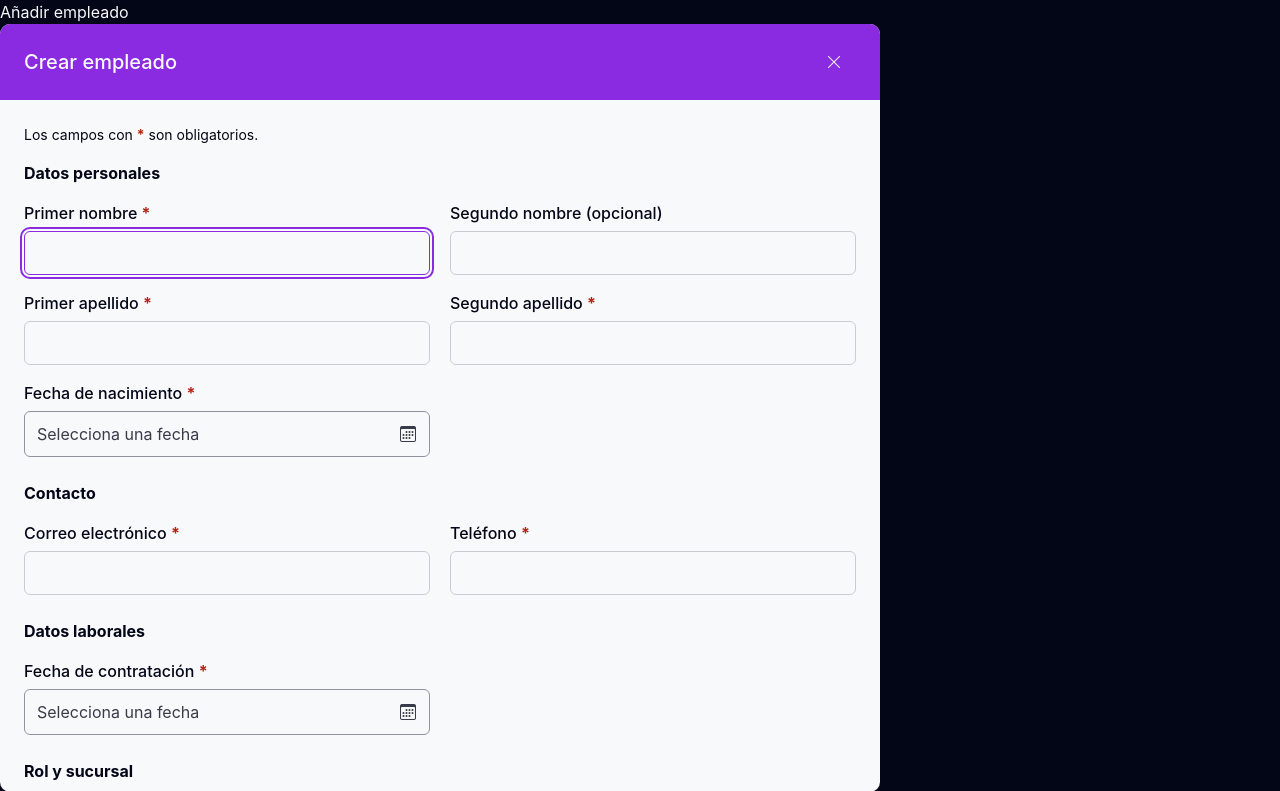
Test: CreateUserDialog › keeps untouched fields quiet and validates an edited email on blur, then as it is corrected
Type "correo-invalido" into the field named "email" at (227, 573), box [24, 551, 430, 595]
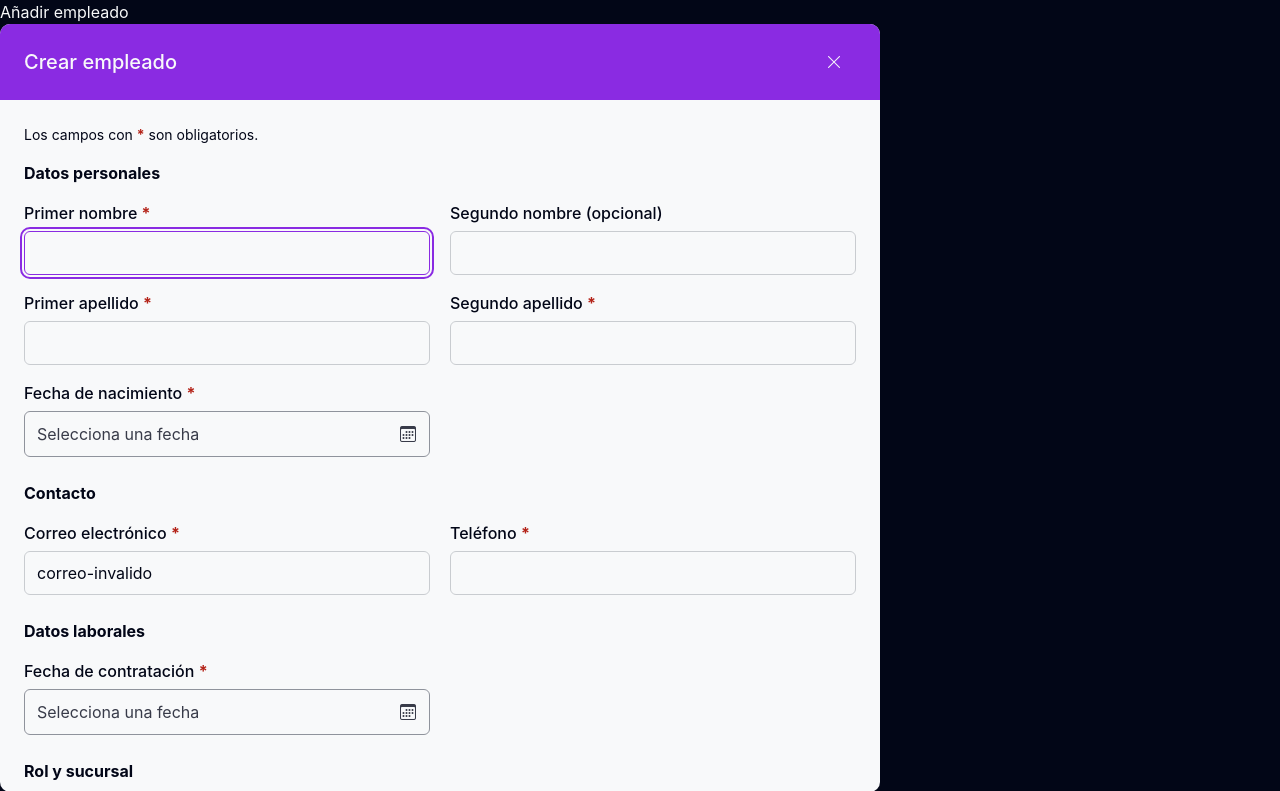
Leave the field named "email", box [24, 551, 430, 595]
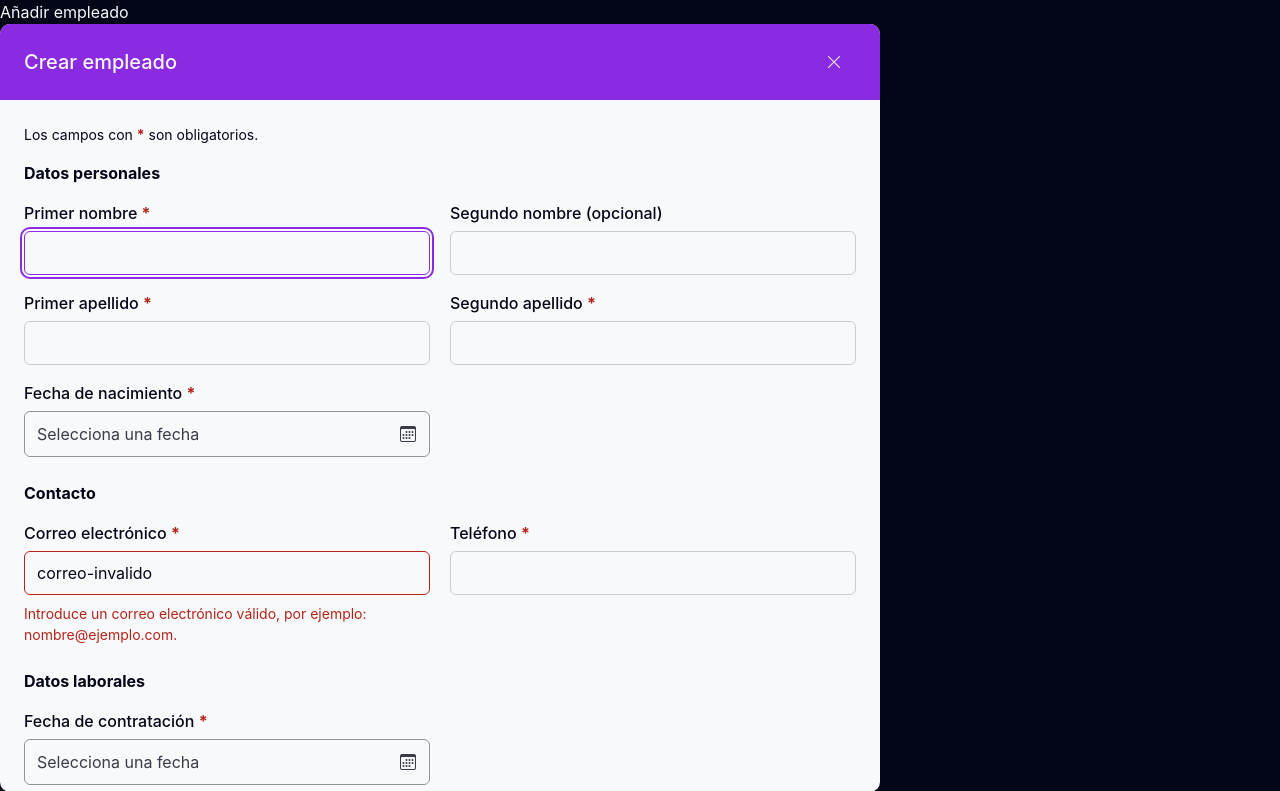
Replace the text in the field named "email" with "ana@example.com" at (227, 573), box [24, 551, 430, 595]
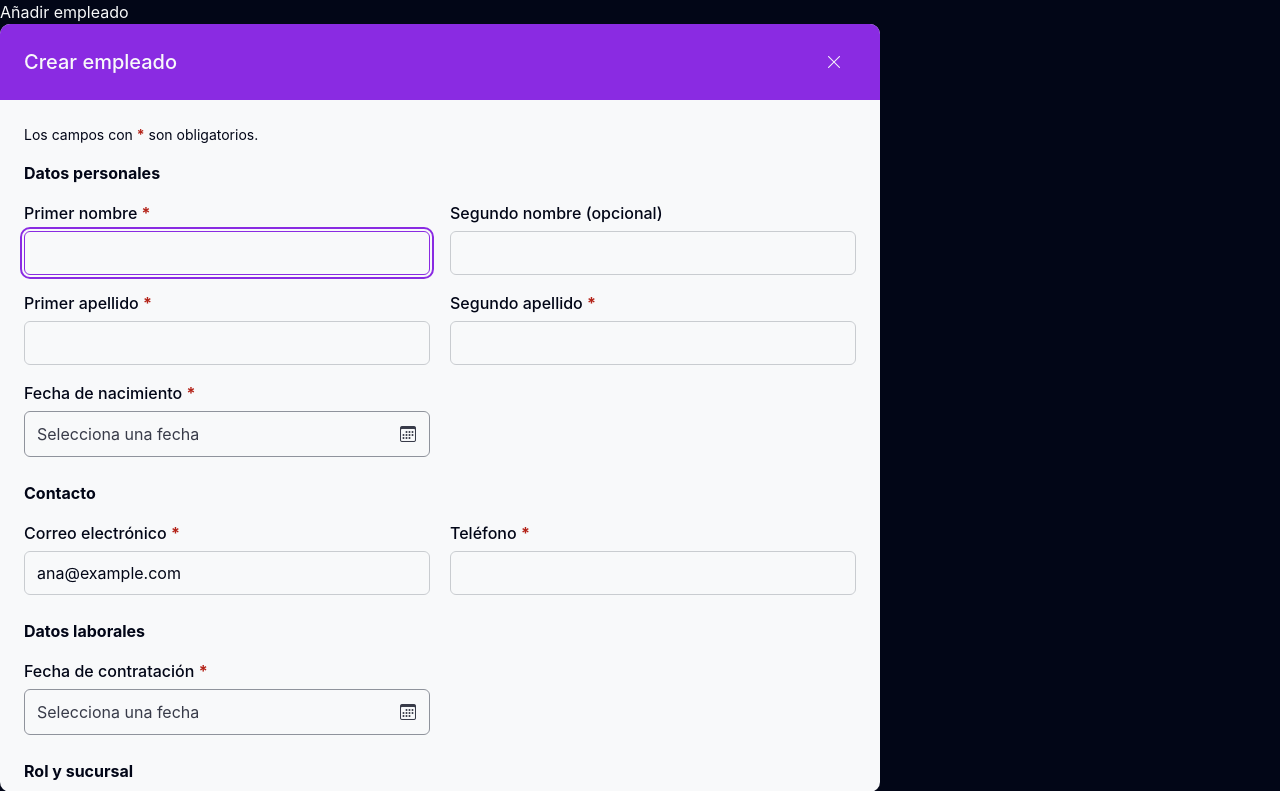
Expected: the field named "email" is not marked as invalid
Expected: the field named "email" does not have attribute aria-describedby
Clear the field named "email" at (227, 573), box [24, 551, 430, 595]
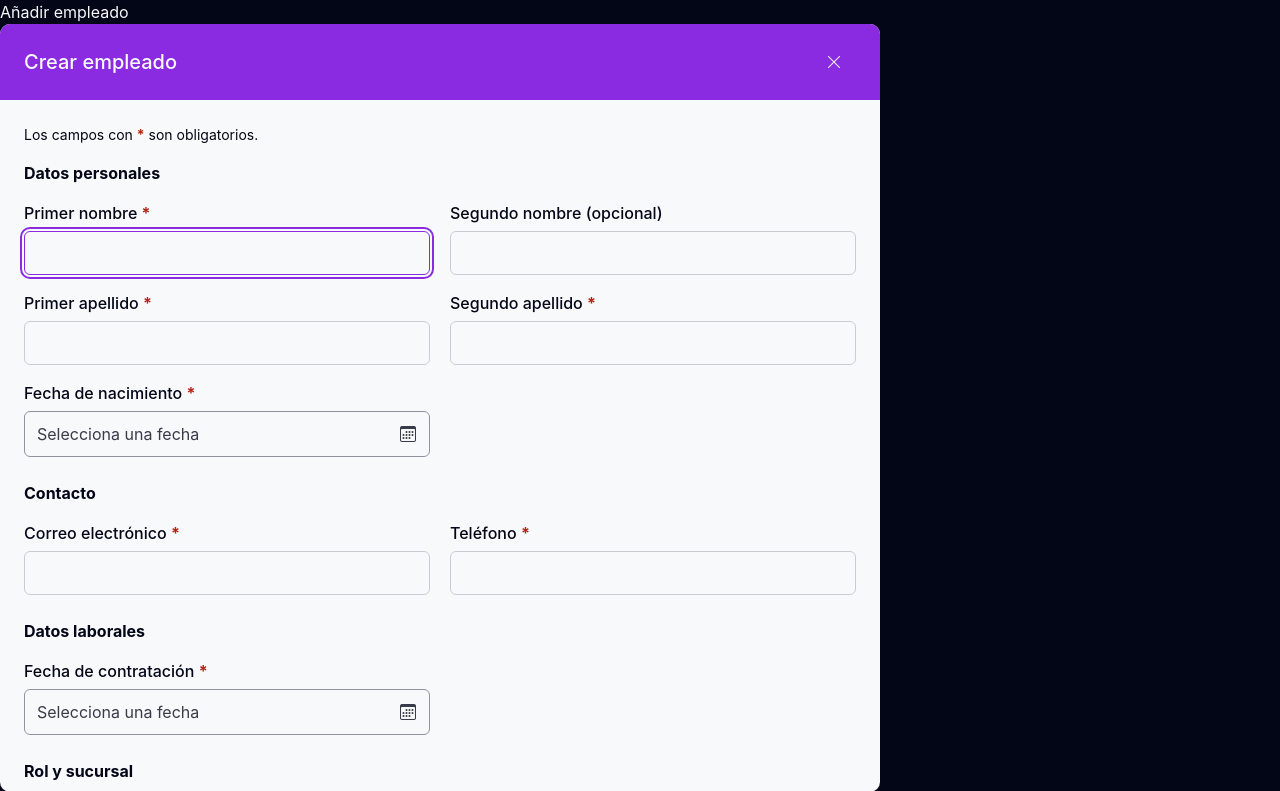
Expected: the field named "email" is not marked as invalid
Leave the field named "email", box [24, 551, 430, 595]
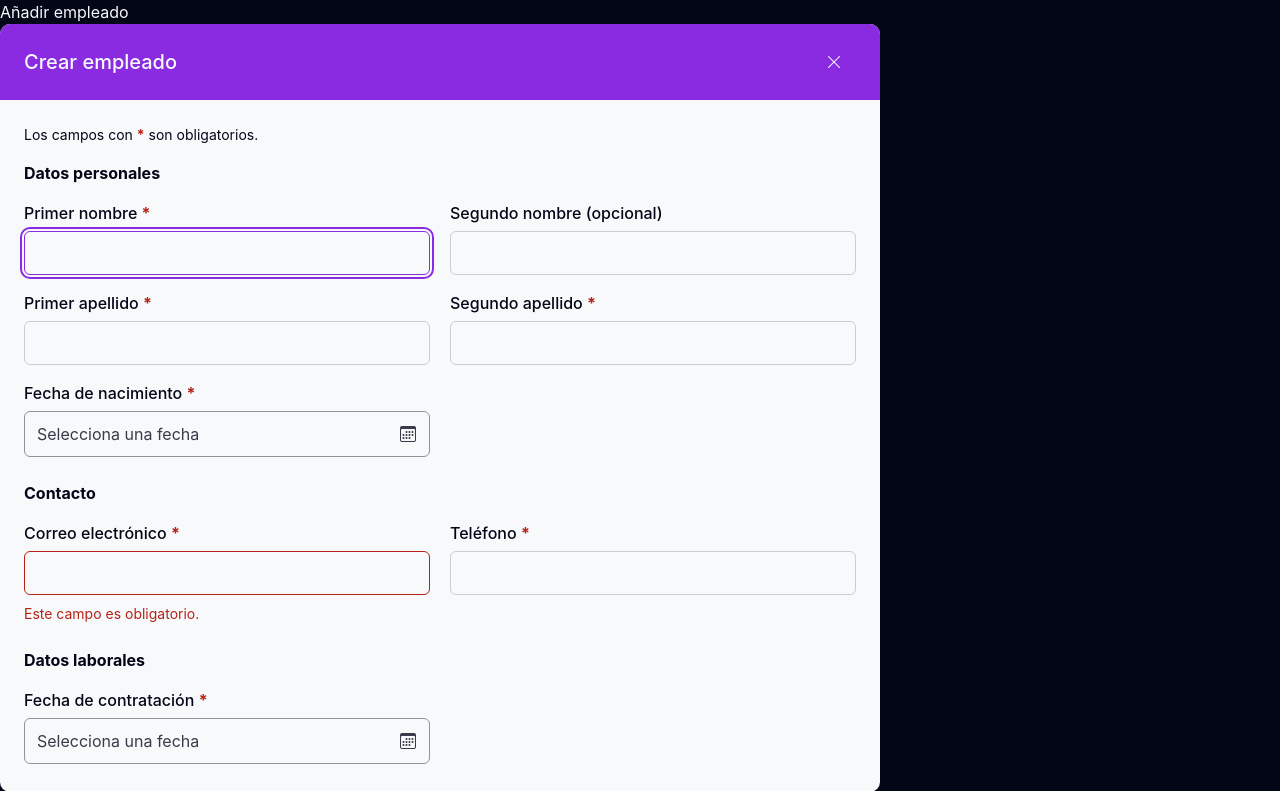
Expected: the text "Este campo es obligatorio." is shown, [24, 605, 199, 622]
